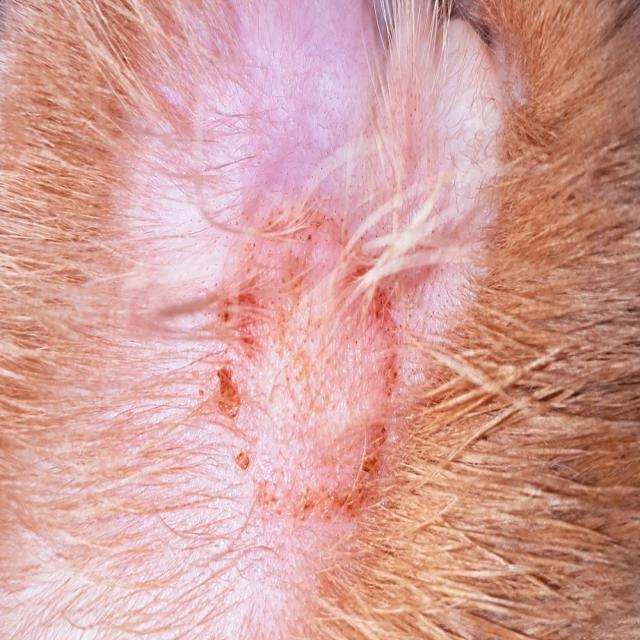cat-ringworm: (214, 186, 404, 521)
